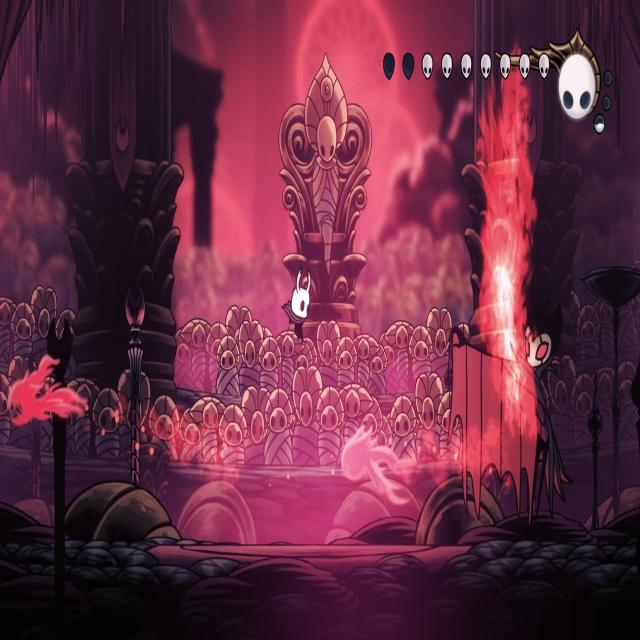Fire Bat: (338, 426, 412, 507), (9, 350, 84, 425)
Open Cloak: (439, 293, 575, 542)
Player: (281, 261, 314, 350)
